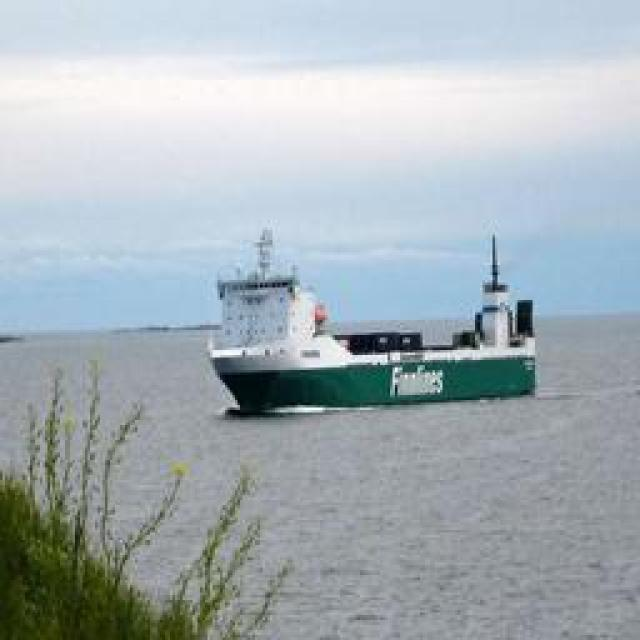CIV_Ship: (207, 218, 535, 414)
